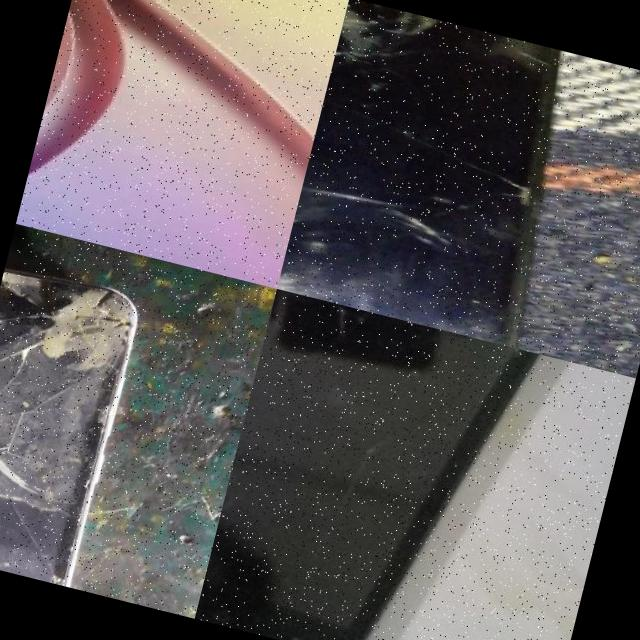screen crack: (0, 264, 161, 592), (306, 409, 404, 525), (455, 26, 580, 78), (479, 154, 558, 232)
